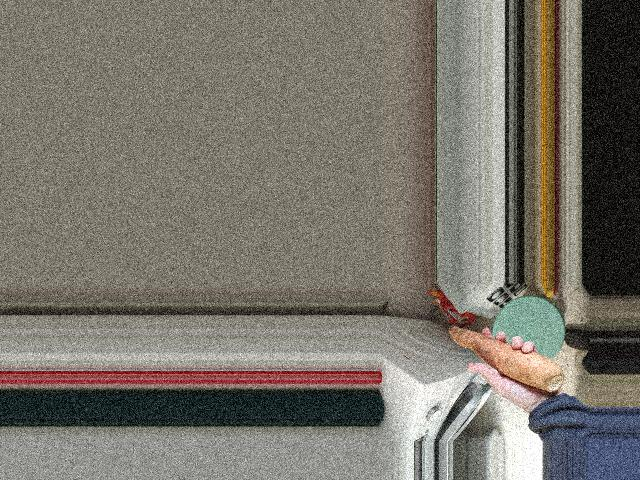sweet_potato: (440, 320, 566, 395)
